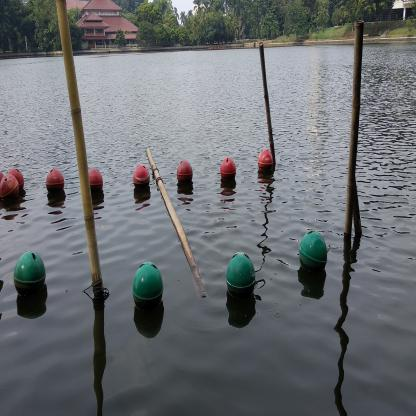green_buoy: (11, 246, 49, 308), (132, 254, 166, 319), (224, 246, 258, 308), (298, 224, 328, 282)
red_buoy: (0, 173, 20, 209), (44, 168, 66, 199), (175, 158, 195, 191), (256, 146, 276, 176), (133, 162, 151, 193), (88, 168, 105, 196), (221, 156, 237, 184)
